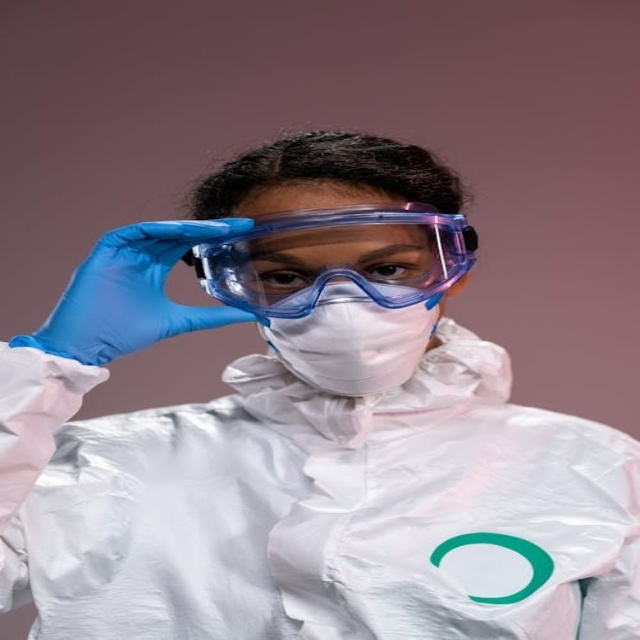Gafas: (182, 206, 480, 317)
Guantes: (10, 217, 266, 369)
Mascara: (255, 280, 448, 397)
